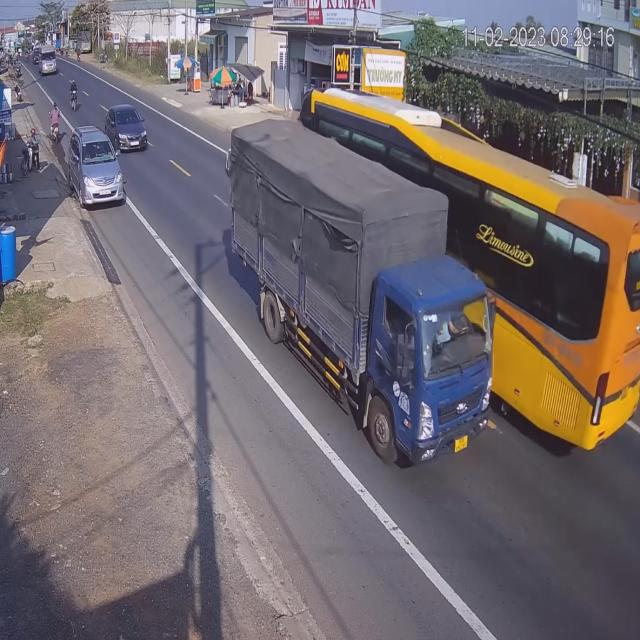bus: (381, 80, 640, 462), (38, 44, 56, 78)
car: (69, 129, 125, 211), (106, 106, 147, 155)
motorbike: (49, 103, 60, 142), (70, 81, 79, 112)
truck: (232, 121, 502, 467)
